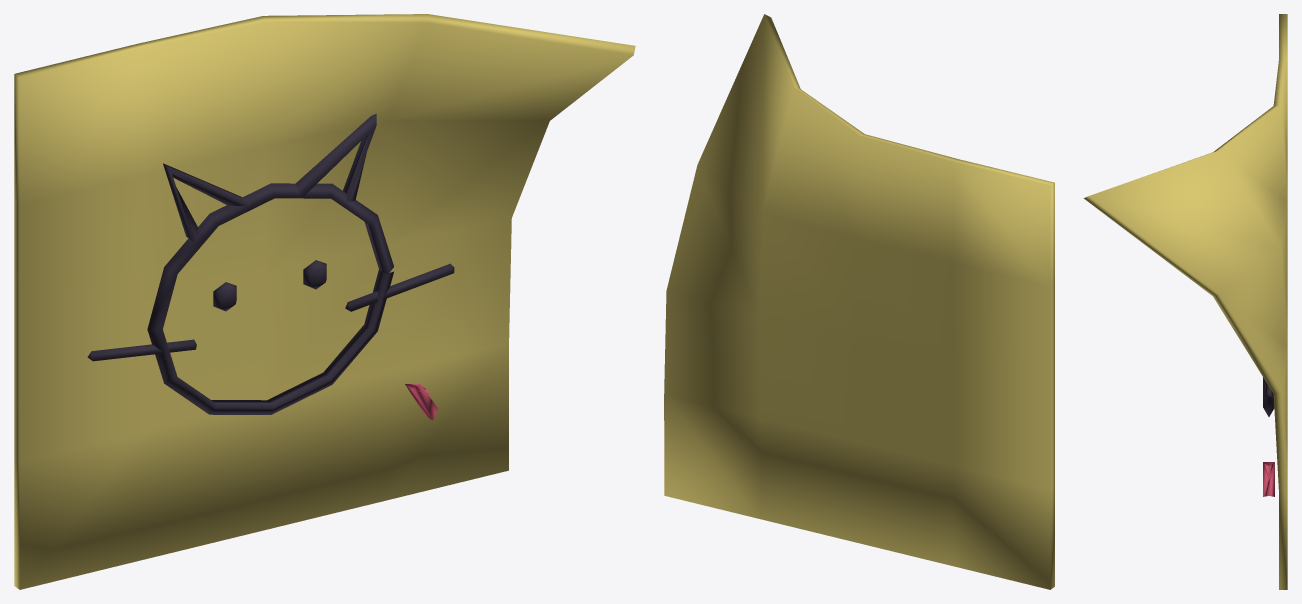
The model's file is sticky_note.glb.
The picture shows the model from 3 angles, left to right: view 1: azimuth 30°, elevation 25°; view 2: azimuth 150°, elevation 25°; view 3: azimuth 270°, elevation 25°; orthographic projection. The views are drawn at different scales.
Parts seen in each view (by area): view 1: sticky_note; view 2: sticky_note; view 3: sticky_note.
Part boxes in pixels (box(x1,y1,x2,y2)): sticky_note: box(14, 14, 635, 589); sticky_note: box(664, 14, 1054, 589); sticky_note: box(1083, 14, 1287, 589).
Size of the model in its own units: 0.0764 by 0.0764 by 0.0358.
